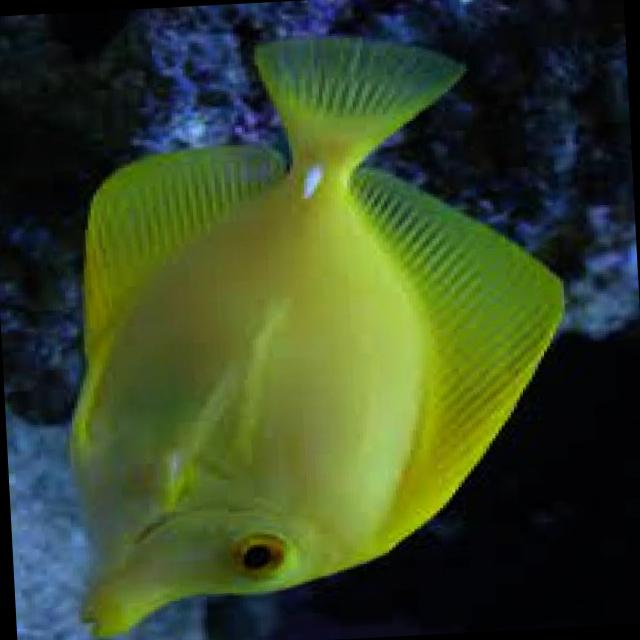YellowTang: (13, 12, 603, 640)
